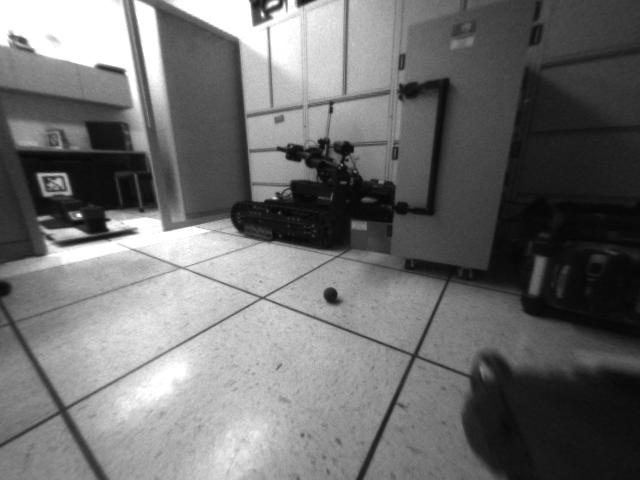dogtoy: (319, 281, 345, 307)
